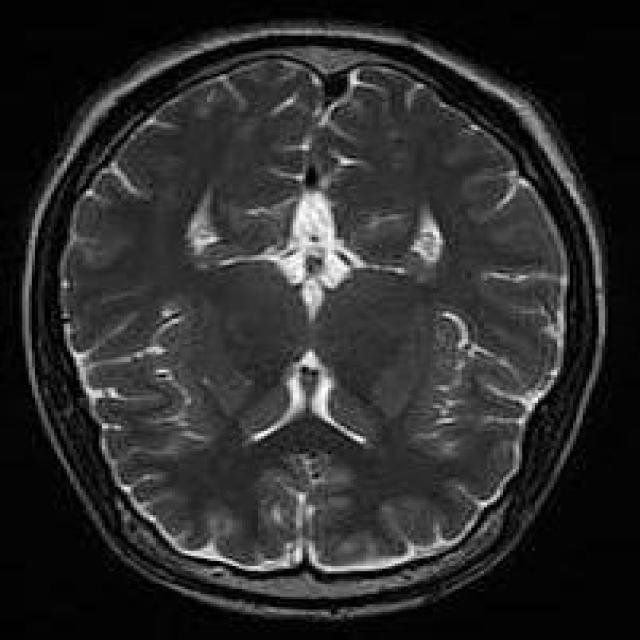no-tumor: (115, 131, 539, 483)
